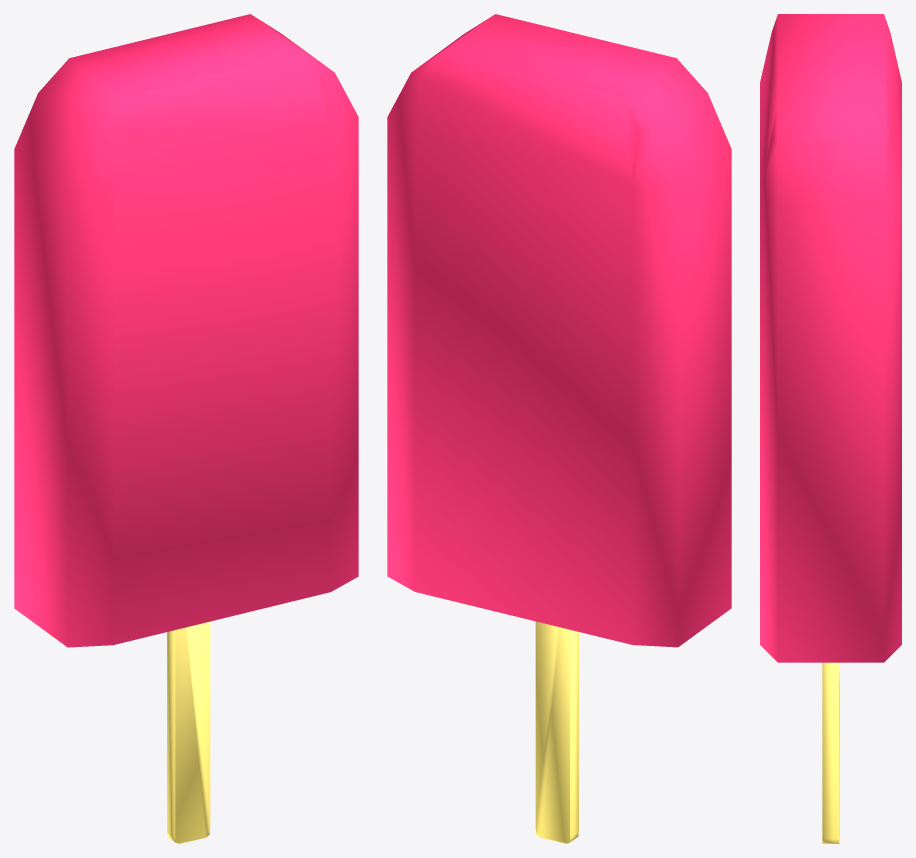
Rendered from pink_popsicle.glb.
The picture shows the model from 3 angles, left to right: view 1: azimuth 30°, elevation 25°; view 2: azimuth 150°, elevation 25°; view 3: azimuth 270°, elevation 25°; orthographic projection.
Visible parts, largest first — view 1: Pink_Popsicle; view 2: Pink_Popsicle; view 3: Pink_Popsicle.
Part boxes in pixels (x1,y1,x2,y2): Pink_Popsicle: (14,14,358,843); Pink_Popsicle: (387,14,731,843); Pink_Popsicle: (760,14,901,843).
Bounding box in the file's own units: 0.3899 × 1 × 0.1654.
1 material, 1 textured.
